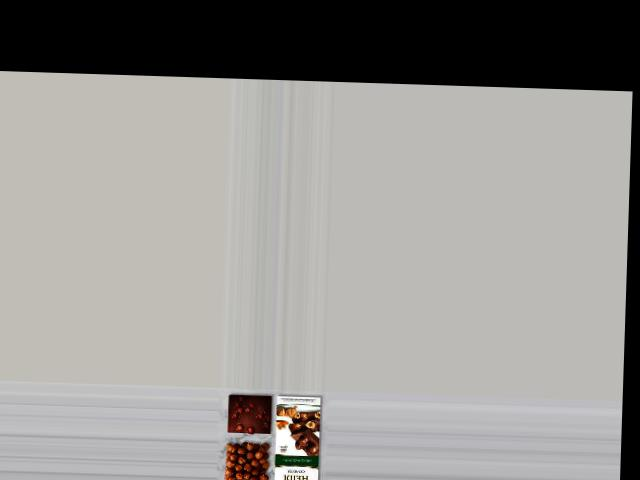chocolate: (222, 392, 273, 434)
